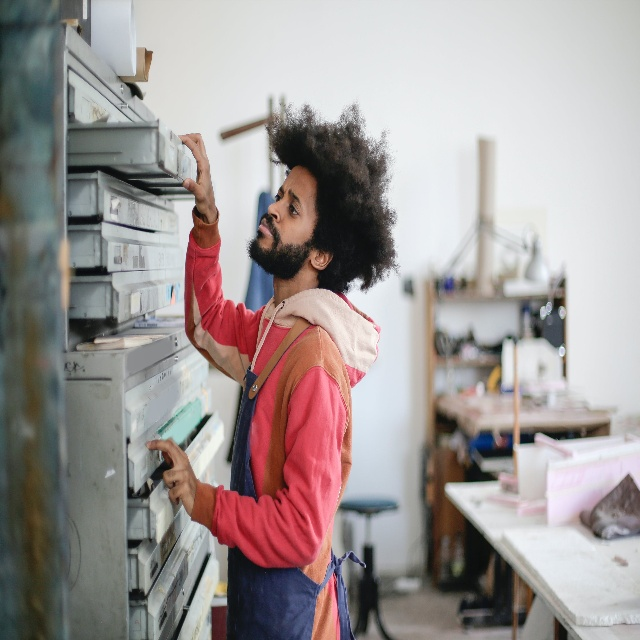Sin_guantes: (146, 435, 197, 518), (177, 130, 219, 221)
